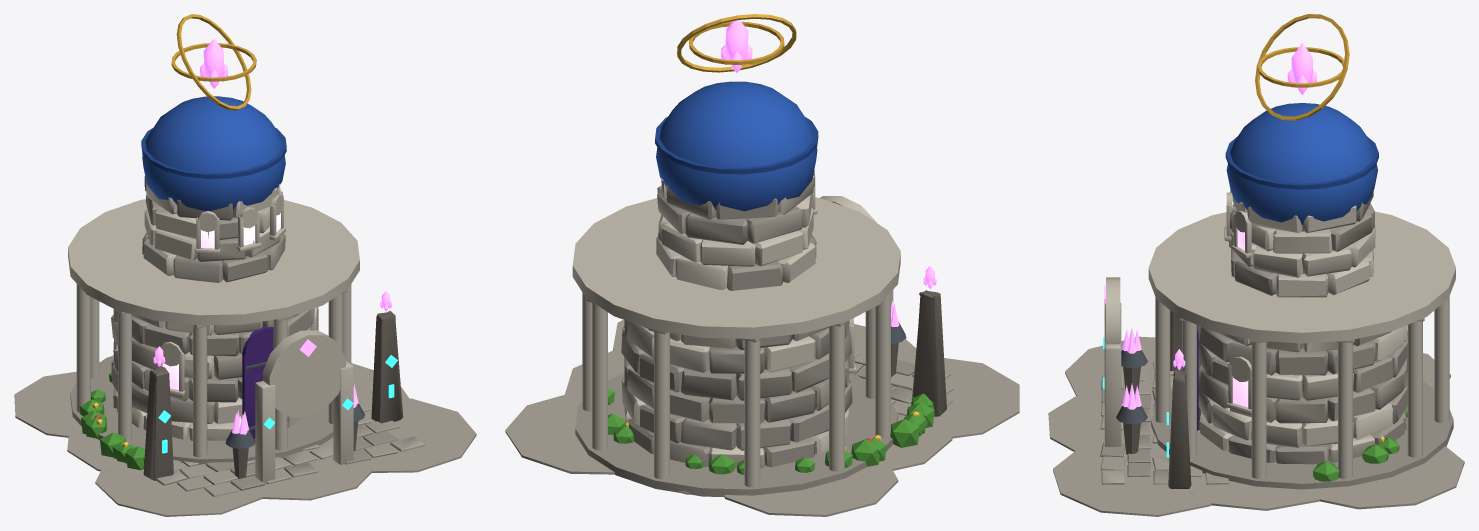
File: budynek_fuzji_poz17.glb
3 views of the same model, side by side, from view 1: azimuth 30°, elevation 25°; view 2: azimuth 150°, elevation 25°; view 3: azimuth 270°, elevation 25° (orthographic). The views are drawn at different scales.
Visible parts, largest first — view 1: budynek_fuzji_poz17; view 2: budynek_fuzji_poz17; view 3: budynek_fuzji_poz17.
Boxes of the visible parts, x1,y1,x2,y2 form: budynek_fuzji_poz17: (14, 14, 476, 516); budynek_fuzji_poz17: (505, 14, 1019, 516); budynek_fuzji_poz17: (1048, 14, 1464, 516).
Size of the model in its own units: 8.92 by 9.49 by 8.79.
